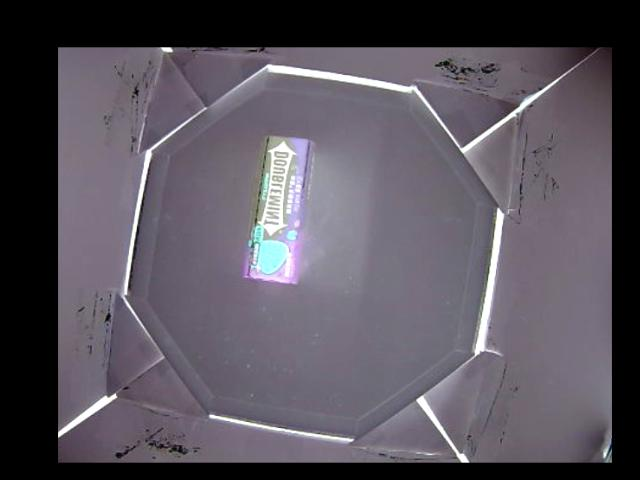Bottle: (241, 134, 314, 284)
